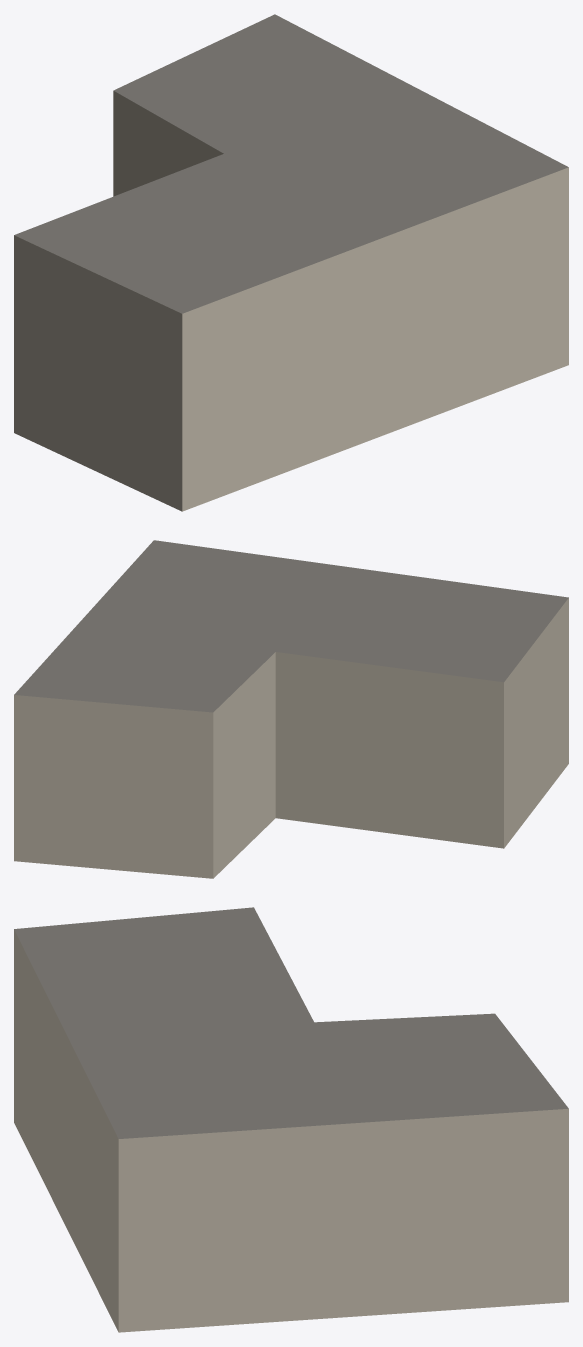
3 renders of one model, top to bottom at view 1: azimuth 30°, elevation 25°; view 2: azimuth 150°, elevation 25°; view 3: azimuth 270°, elevation 25°, orthographic. The views are drawn at different scales.
Parts seen in each view (by area): view 1: HP-w1512800282; view 2: HP-w1512800282; view 3: HP-w1512800282.
Boxes of the visible parts, left/top/right/bottom form: HP-w1512800282: left=14, top=14, right=568, bottom=511; HP-w1512800282: left=14, top=540, right=568, bottom=878; HP-w1512800282: left=14, top=907, right=568, bottom=1332.
Bounding box in the file's own units: 46.25 × 18 × 46.8.
